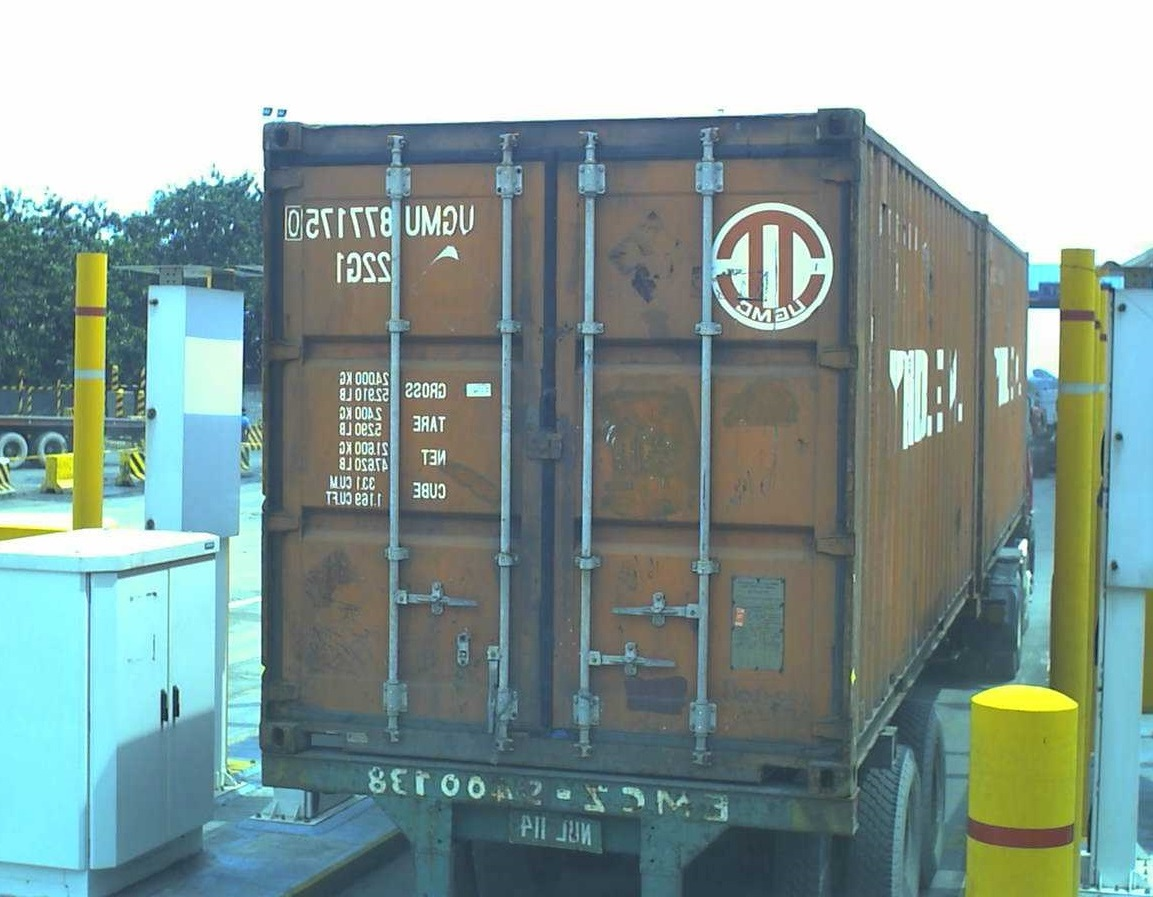container_door: (261, 108, 861, 798)
